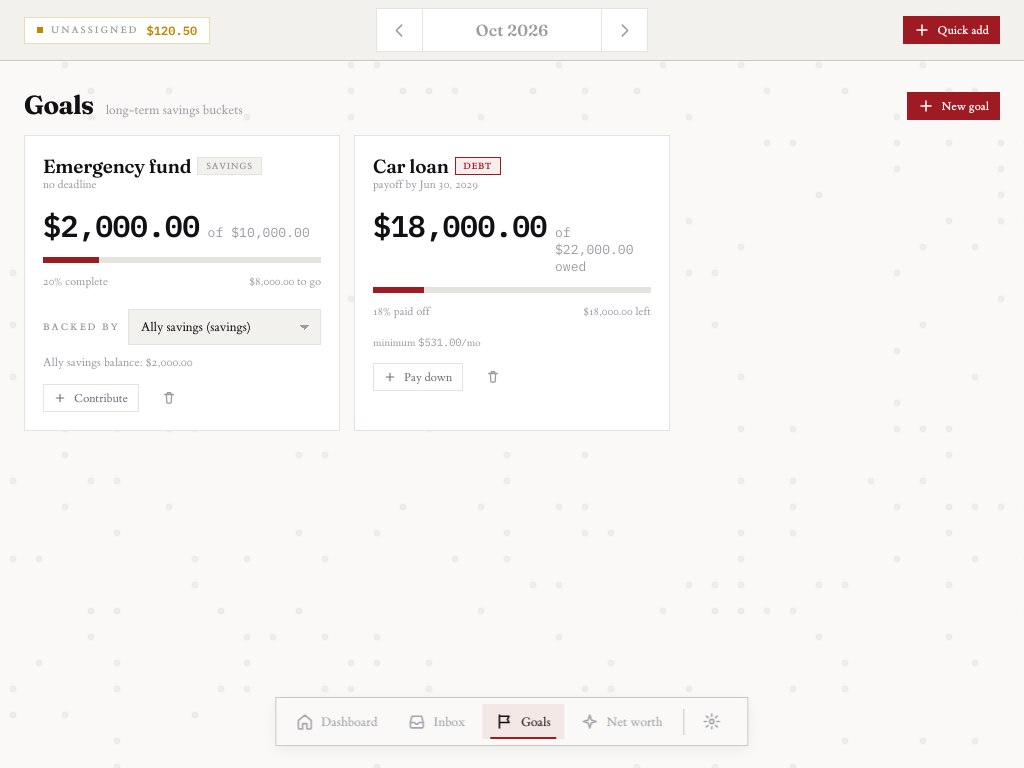
Test: Goals › follows the top-bar month
The width and height of the screenshot is (1024, 768).
Expected: the text "20% complete" is shown, [43,275,108,289]
Click the button named "Previous month" at (400, 30), box [377,9,422,51]
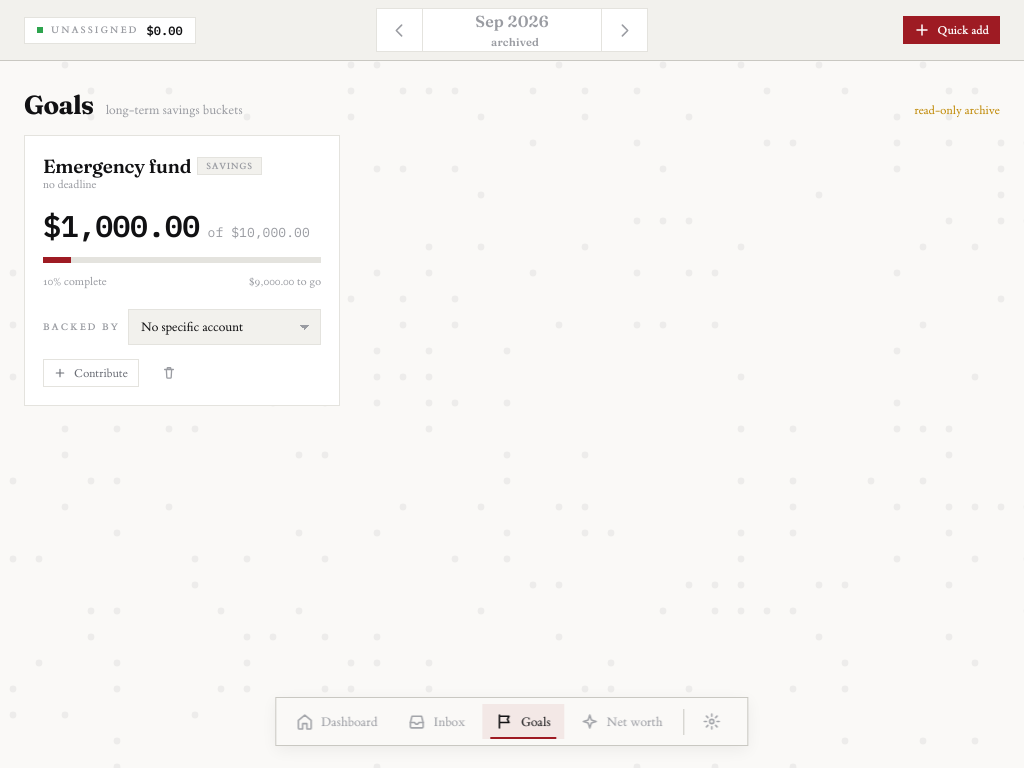
Expected: the text "10% complete" is shown, [43,275,107,289]
